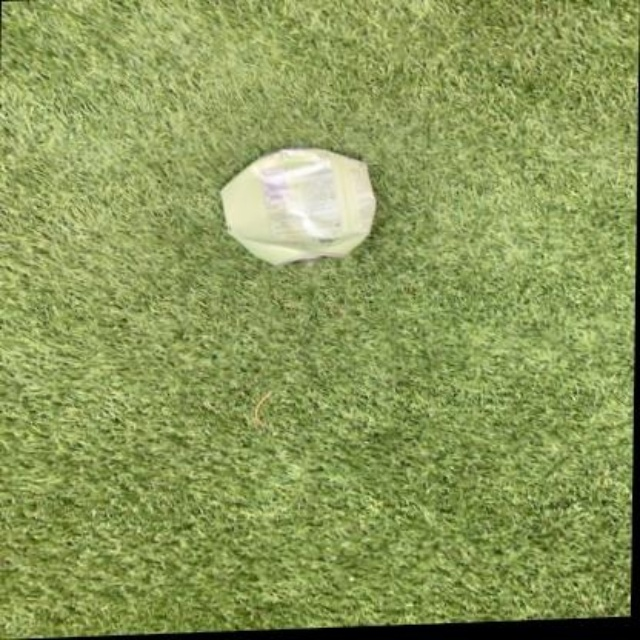trash: (222, 149, 374, 263)
